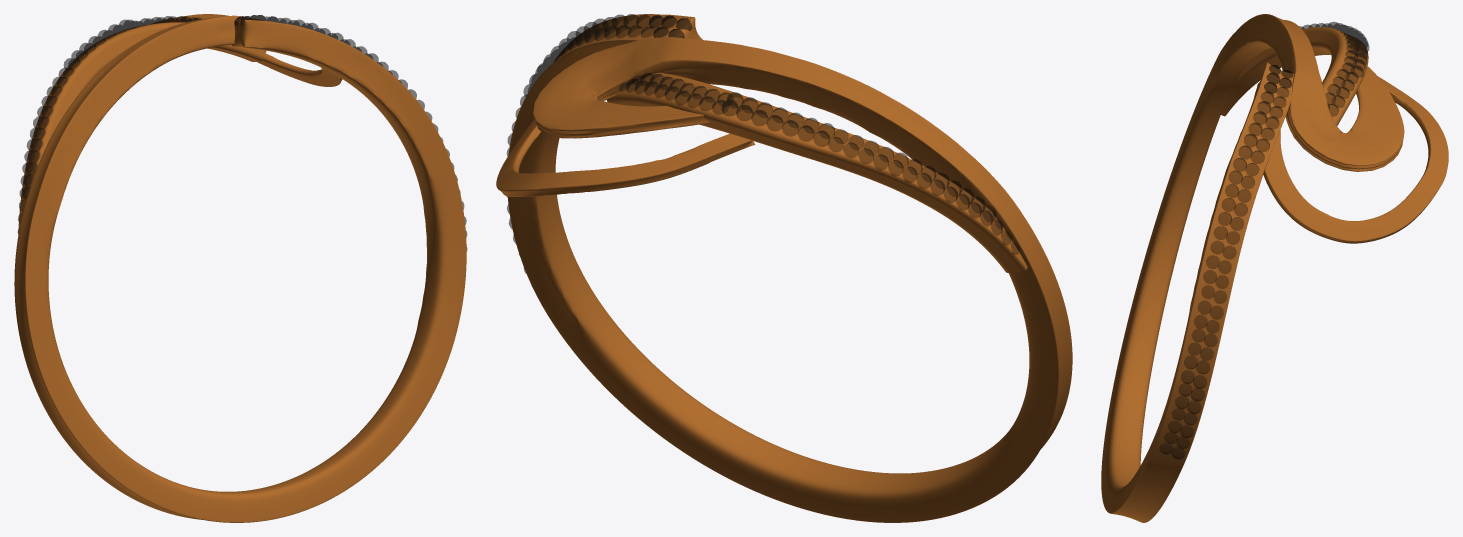
3 renders of one model, left to right at view 1: azimuth 30°, elevation 25°; view 2: azimuth 150°, elevation 25°; view 3: azimuth 270°, elevation 25°, orthographic. The views are drawn at different scales.
Visible parts, largest first — view 1: ring_04; view 2: ring_04; view 3: ring_04.
Boxes of the visible parts, x1,y1,x2,y2 form: ring_04: [14, 14, 467, 522]; ring_04: [496, 14, 1072, 522]; ring_04: [1101, 14, 1448, 522].
Size of the model in its own units: 40.78 by 38.58 by 26.69.
